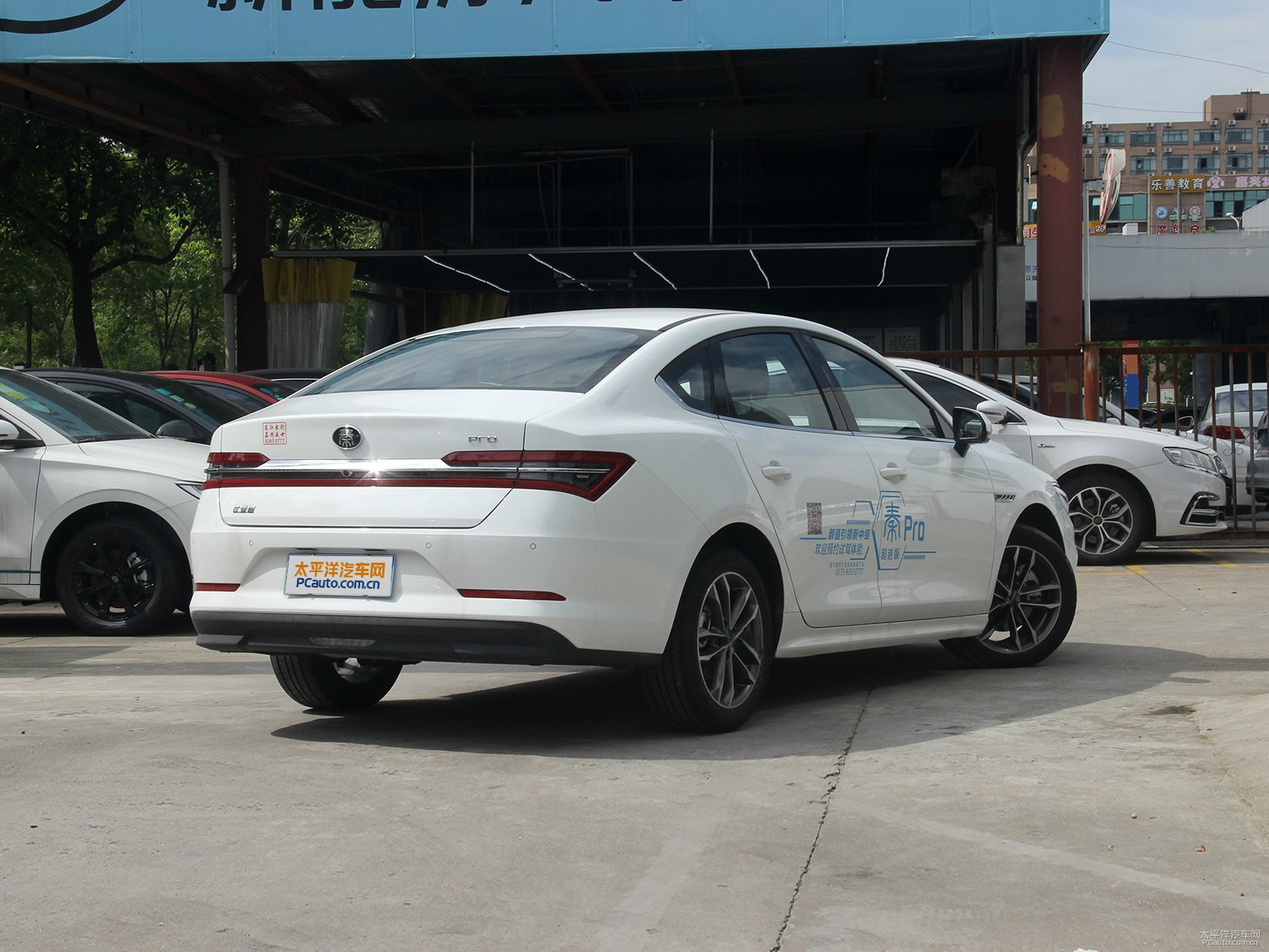BYD Qin: (333, 427, 360, 447)
